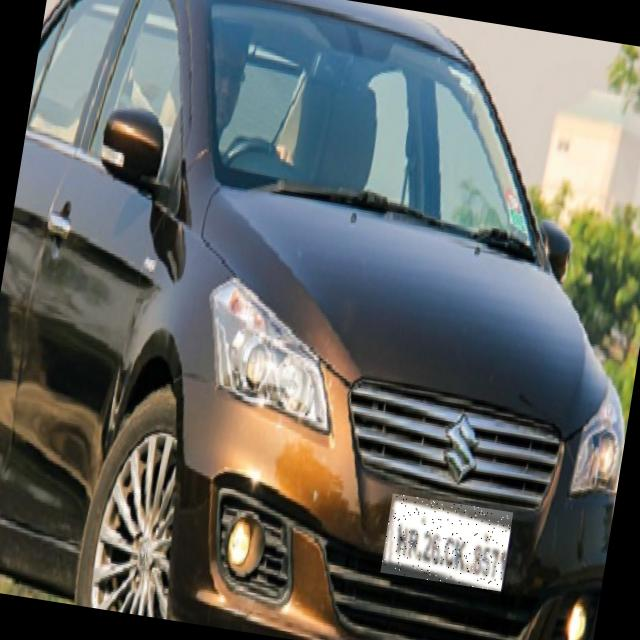Plate: (381, 495, 514, 593)
